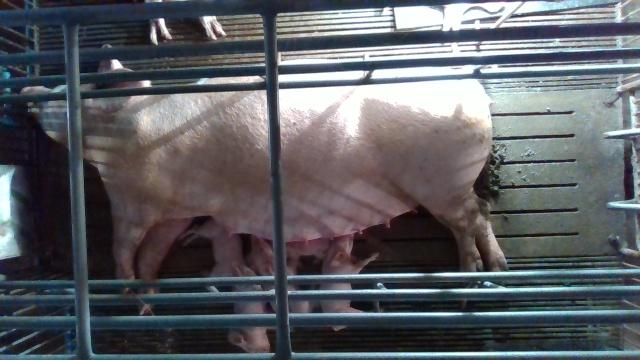piglet: (313, 233, 379, 333), (181, 218, 255, 292), (251, 236, 319, 313), (230, 268, 270, 354), (262, 237, 331, 259)
sow-sleep-lactate: (25, 42, 509, 271)
